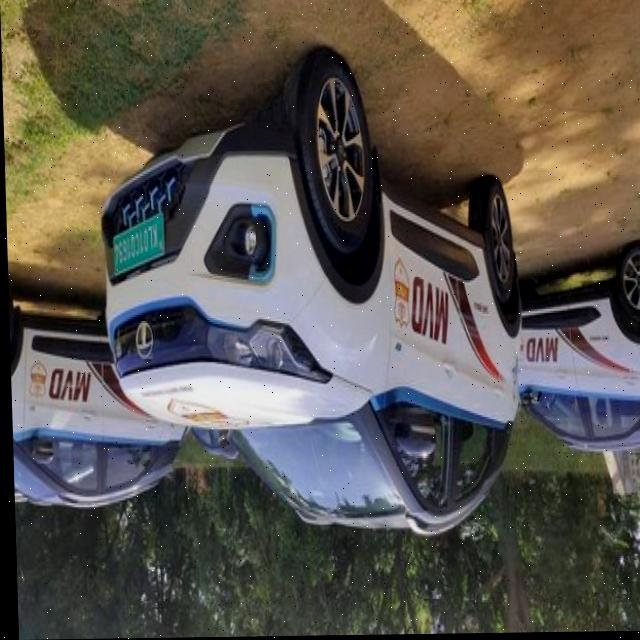plate: (95, 210, 171, 282)
